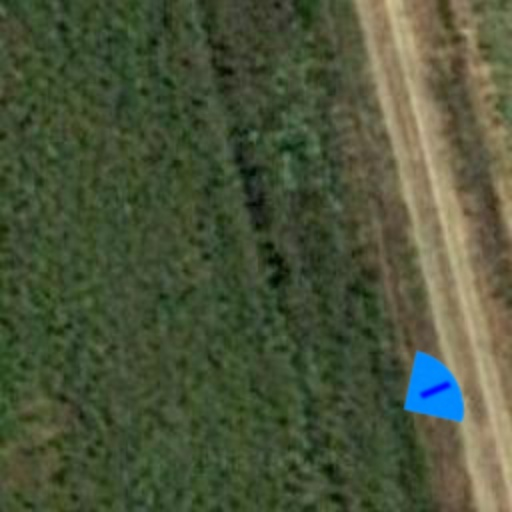quarter_circle: (378, 334, 490, 446)
